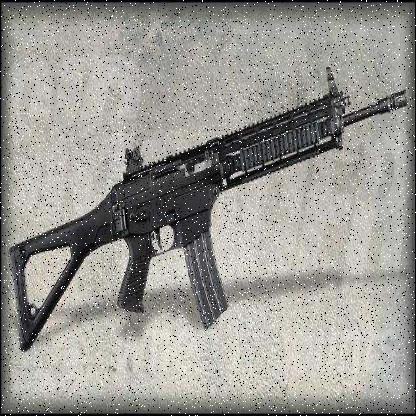rifle: (6, 33, 410, 394)
